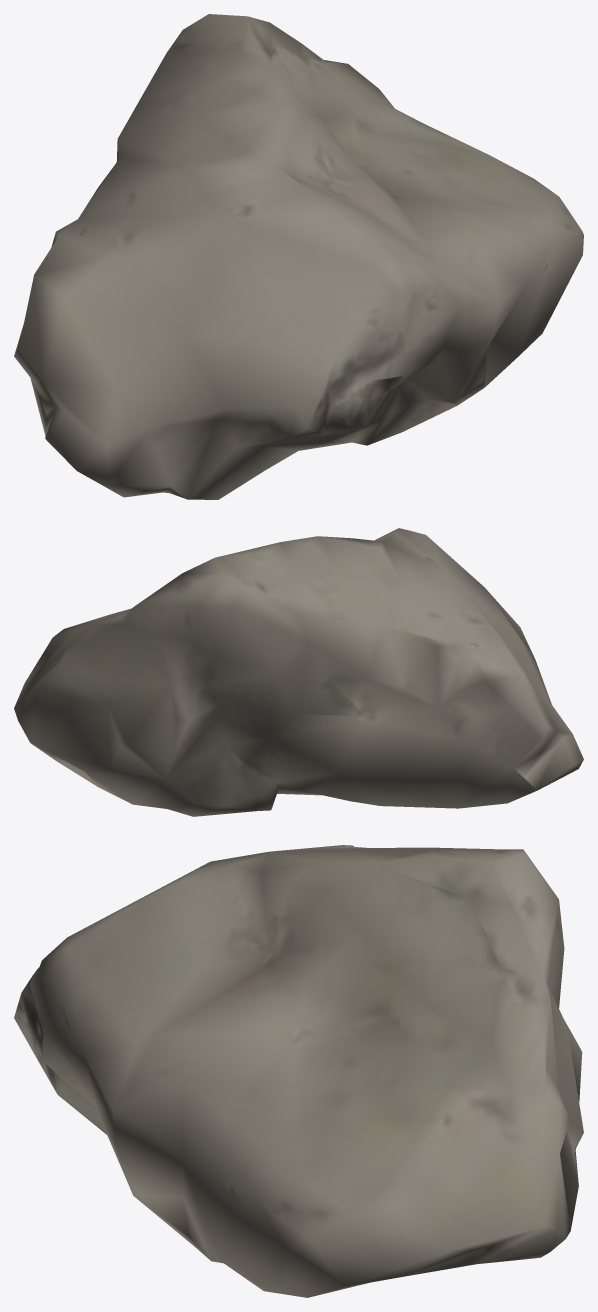
Rendered from rock_moon_2.glb.
3 views of the same model, one above another, from view 1: azimuth 30°, elevation 25°; view 2: azimuth 150°, elevation 25°; view 3: azimuth 270°, elevation 25° (orthographic). The views are drawn at different scales.
Visible parts, largest first — view 1: moon_rock_03_LOD0; view 2: moon_rock_03_LOD0; view 3: moon_rock_03_LOD0.
Part boxes in pixels (left/top/right/bottom): moon_rock_03_LOD0: left=14, top=14, right=583, bottom=499; moon_rock_03_LOD0: left=14, top=528, right=583, bottom=816; moon_rock_03_LOD0: left=14, top=845, right=583, bottom=1297.
Size of the model in its own units: 0.112 by 0.0578 by 0.0859.
Materials: 1 (1 with a texture image).
